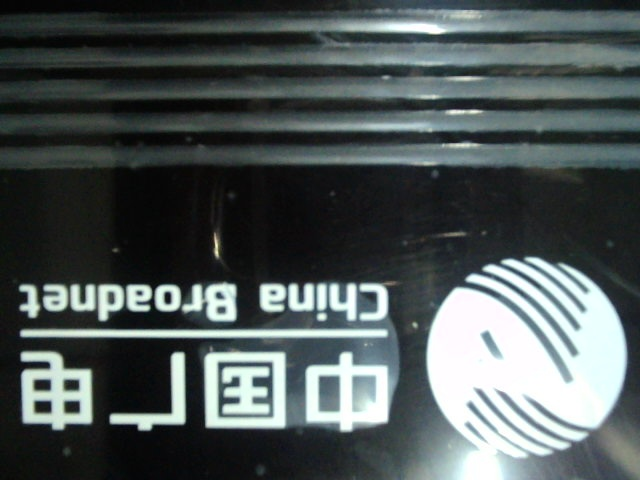AW_ChinaBroadNet: (10, 255, 631, 459)
